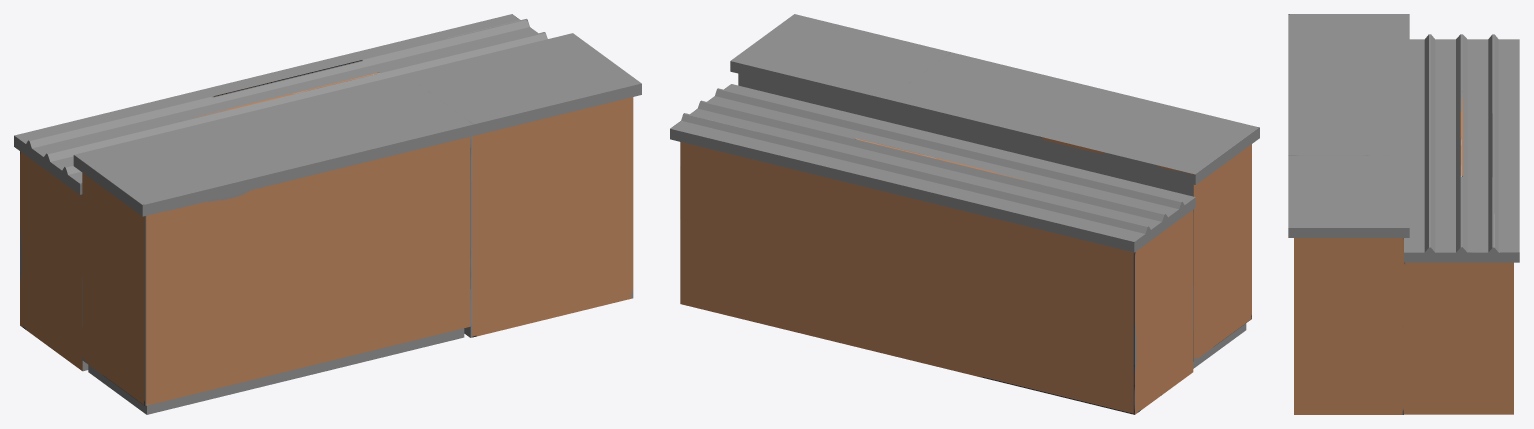
File: register_storage2.fbx
3 renders of one model, left to right at view 1: azimuth 30°, elevation 25°; view 2: azimuth 150°, elevation 25°; view 3: azimuth 270°, elevation 25°, orthographic. The views are drawn at different scales.
Parts seen in each view (by area): view 1: Cube; view 2: Cube; view 3: Cube.
Boxes of the visible parts, x1,y1,x2,y2 form: Cube: (14, 14, 641, 414); Cube: (670, 14, 1259, 414); Cube: (1288, 14, 1519, 414).
Size of the model in its own units: 924 by 380 by 420.
